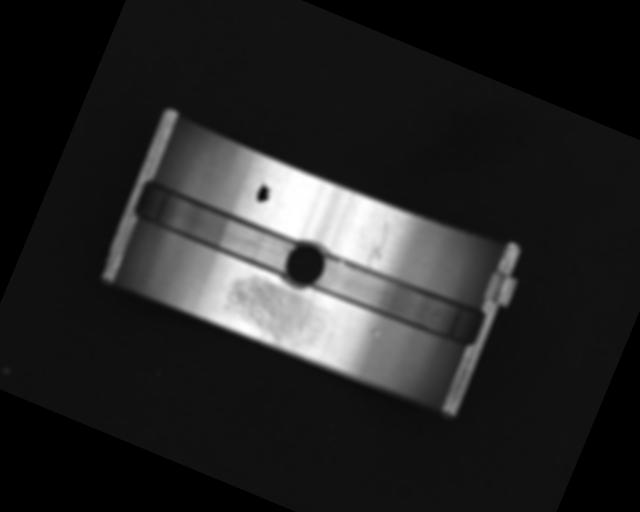blot: (252, 177, 276, 206)
bruise: (367, 325, 382, 339)
gap: (308, 244, 486, 355), (131, 177, 301, 279)
hole: (277, 233, 334, 295)
nick: (362, 217, 396, 271)
scratch: (215, 267, 335, 360)
